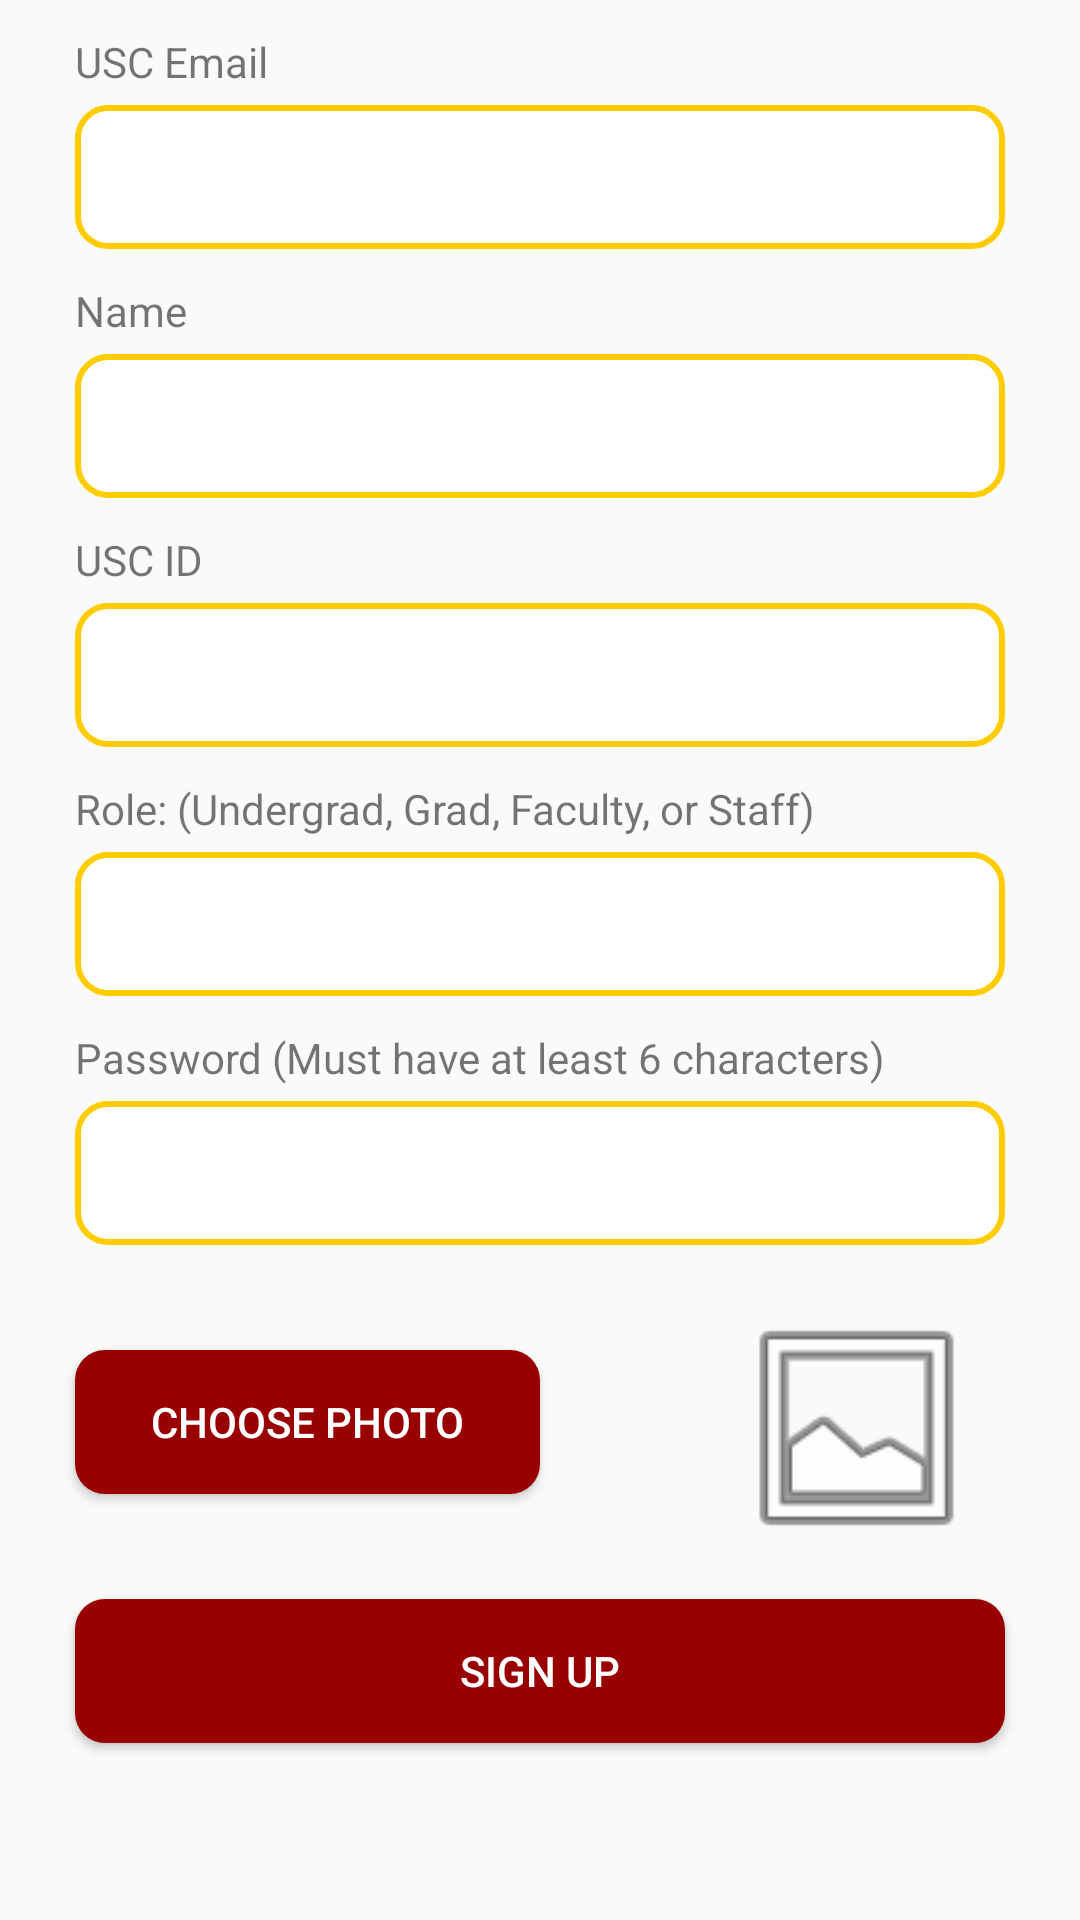

Icons on this 1080px x 1920px Android screen, each with its box as (x1, y1, x2, y2):
gallery: (759, 1330, 954, 1526)
